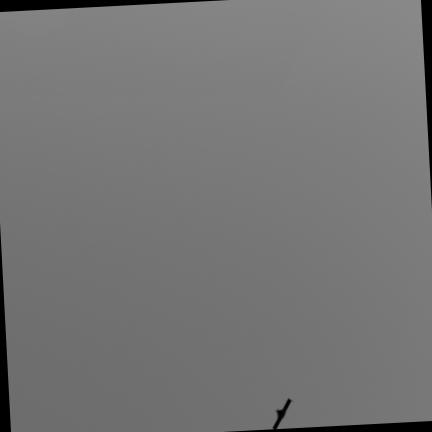Shahed: (272, 398, 292, 429)
